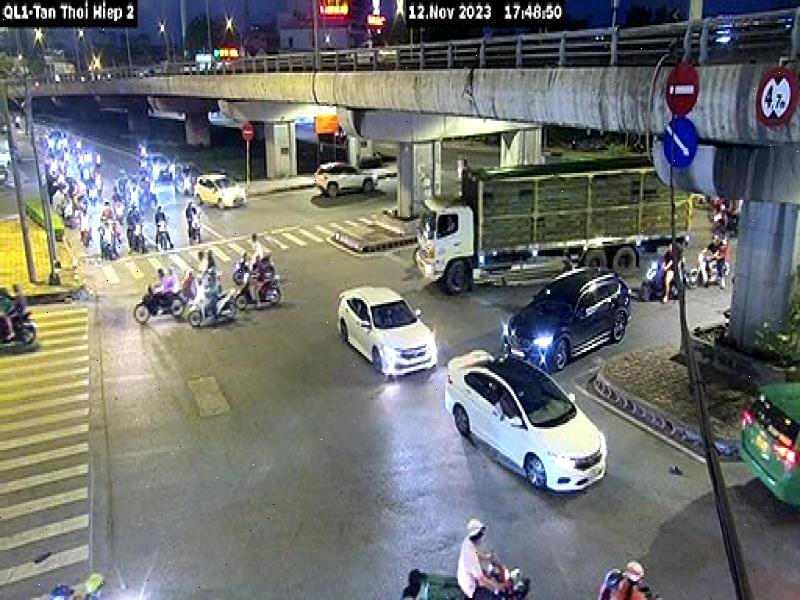truck: (416, 146, 679, 291)
